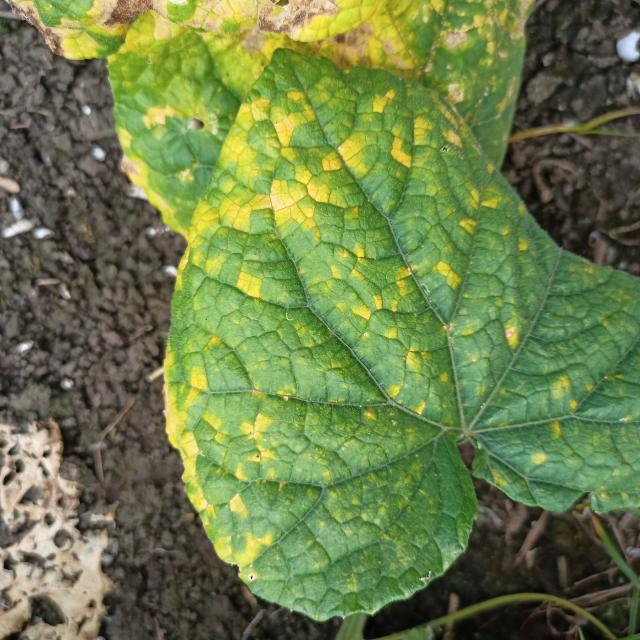disease_cucumber: (168, 69, 640, 600), (91, 0, 543, 171)
